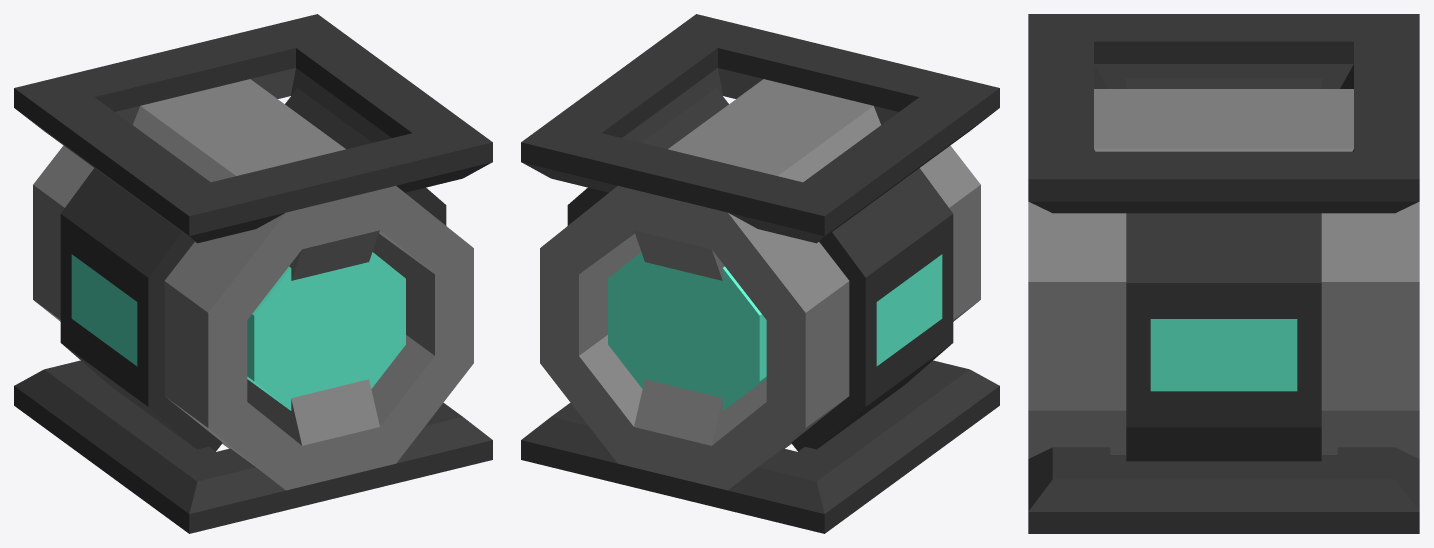
The model's file is MlogicGate.obj.
3 views of the same model, side by side, from view 1: azimuth 30°, elevation 25°; view 2: azimuth 150°, elevation 25°; view 3: azimuth 270°, elevation 25° (orthographic). The views are drawn at different scales.
Visible parts, largest first — view 1: tube, tube_selection, cylinder, tube_selection_selection; view 2: tube, tube_selection, cylinder, tube_selection_selection; view 3: tube, tube_selection, tube_selection_selection.
Boxes of the visible parts, box(x1,y1,x2,y2) form: tube: box(14, 14, 492, 533); tube_selection: box(60, 88, 446, 451); cylinder: box(247, 252, 405, 410); tube_selection_selection: box(71, 254, 137, 366); tube: box(521, 14, 999, 533); tube_selection: box(567, 88, 953, 451); cylinder: box(608, 252, 766, 410); tube_selection_selection: box(876, 254, 942, 366); tube: box(1028, 14, 1419, 533); tube_selection: box(1126, 78, 1321, 461); tube_selection_selection: box(1150, 319, 1297, 391).
Bounding box in the file's own units: 1 × 1 × 1.
